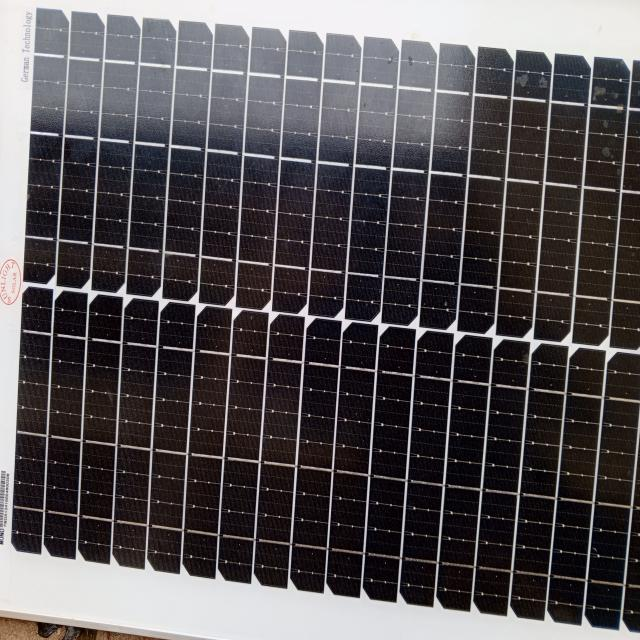Clean: (25, 0, 635, 615)
